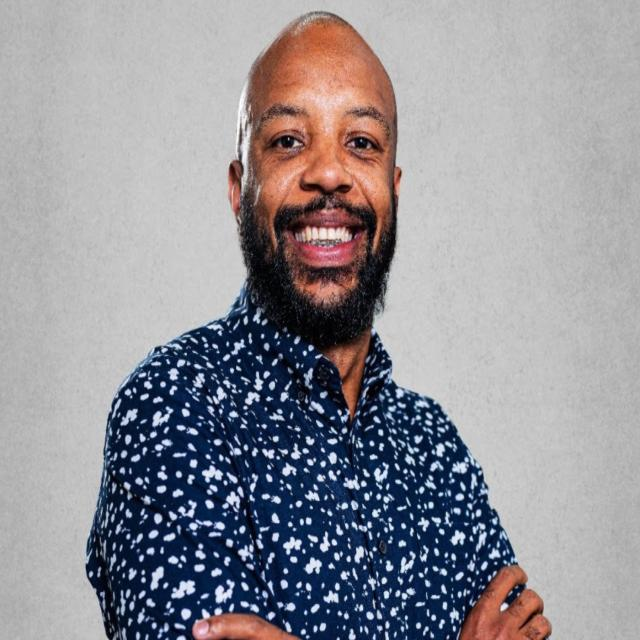sem_oculos: (222, 92, 410, 160)
